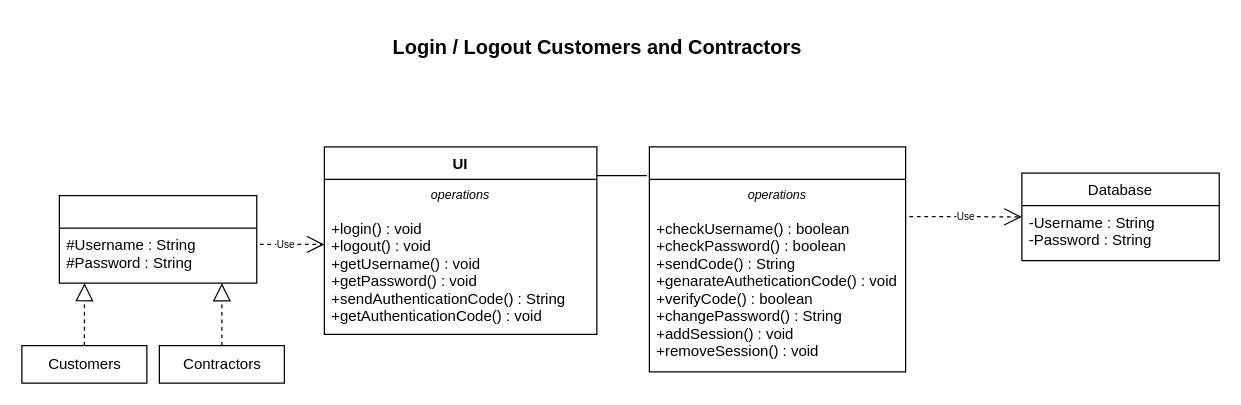
Image size: 1241x405. Some labels were removed from this diagram. Here are the shapes that lost their labels. From the top down, the box of each, then its label:
(58, 194, 257, 283): Information of user
(648, 146, 906, 372): System
